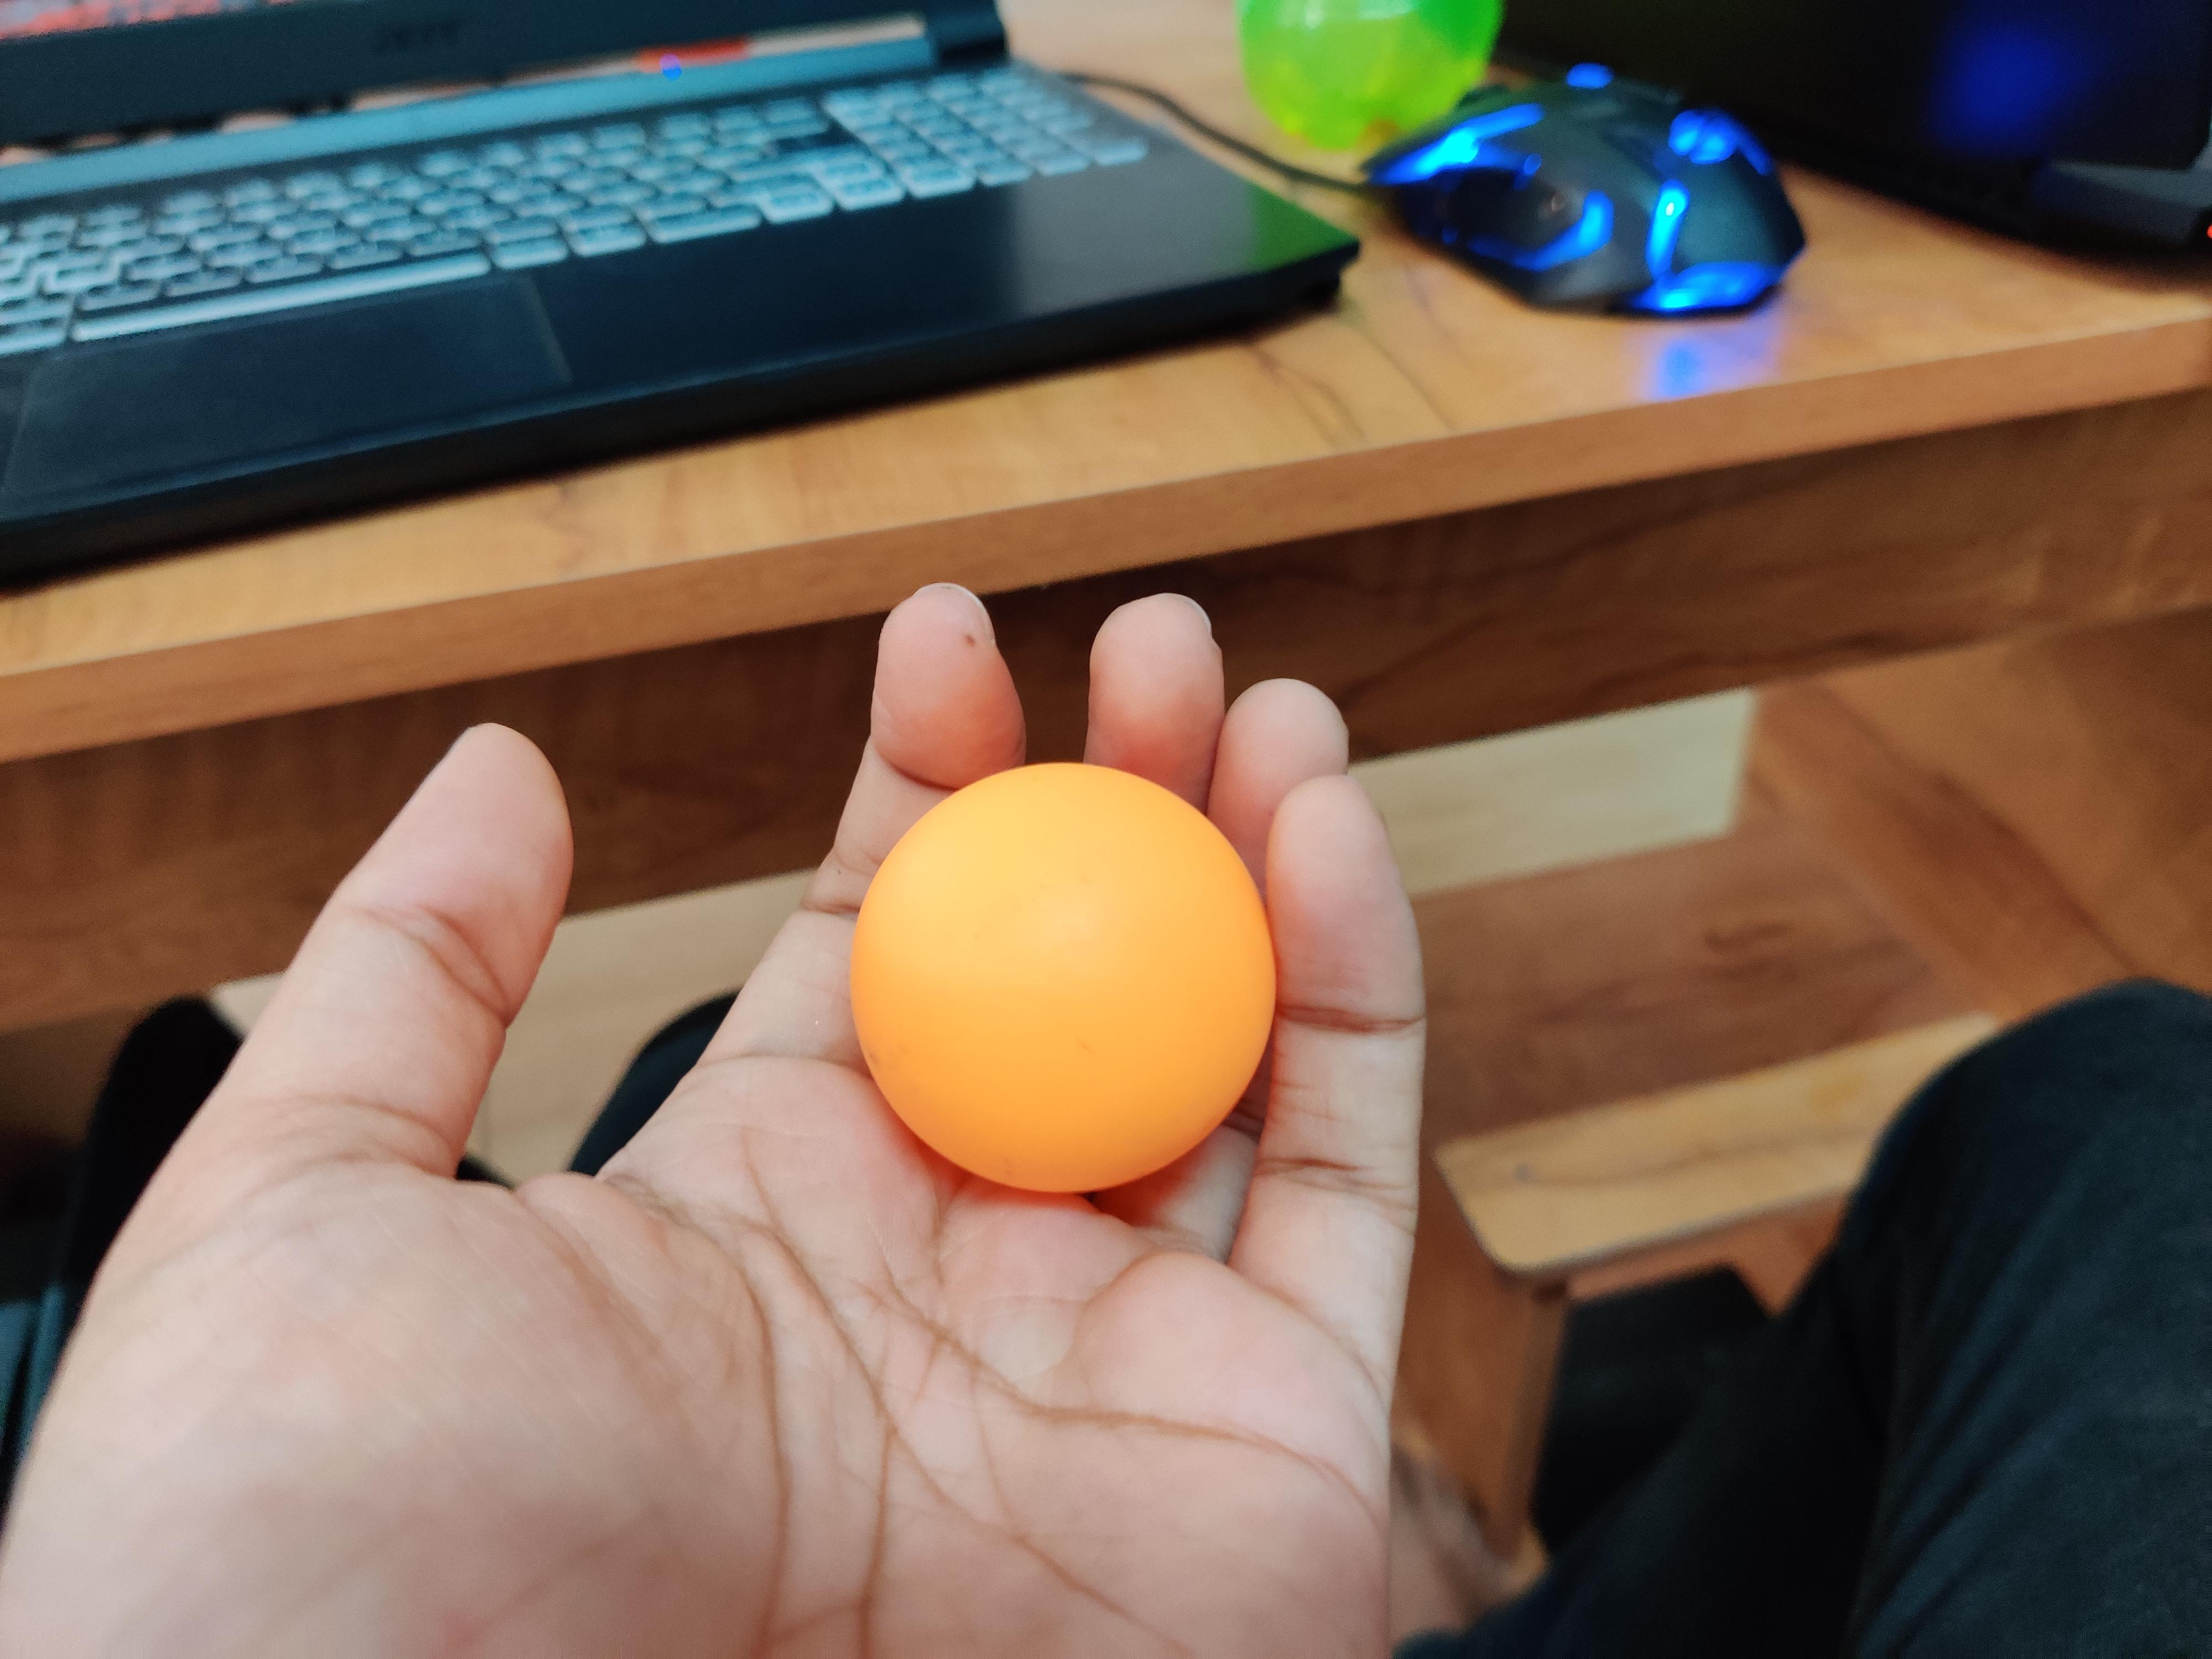orange: (846, 760, 1284, 1206)
